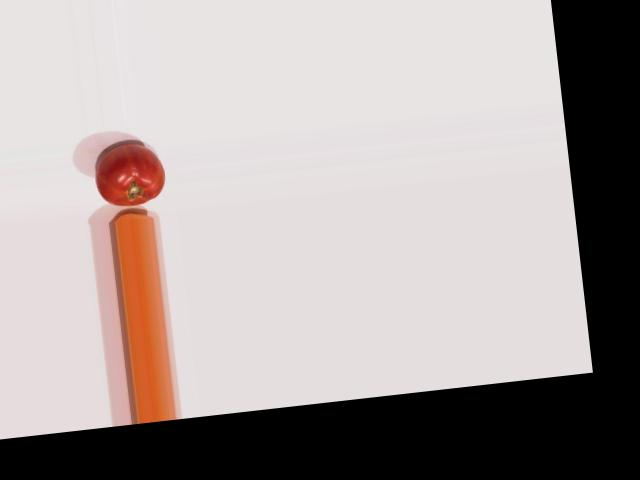tomato: (93, 141, 168, 208)
